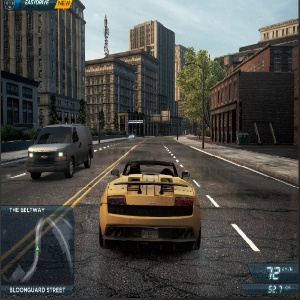building: (87, 23, 176, 134), (211, 70, 294, 143)
lamp post: (182, 60, 212, 150)
tree: (179, 51, 217, 137), (76, 99, 88, 122)
vehicle: (29, 122, 95, 178), (128, 133, 135, 139)
